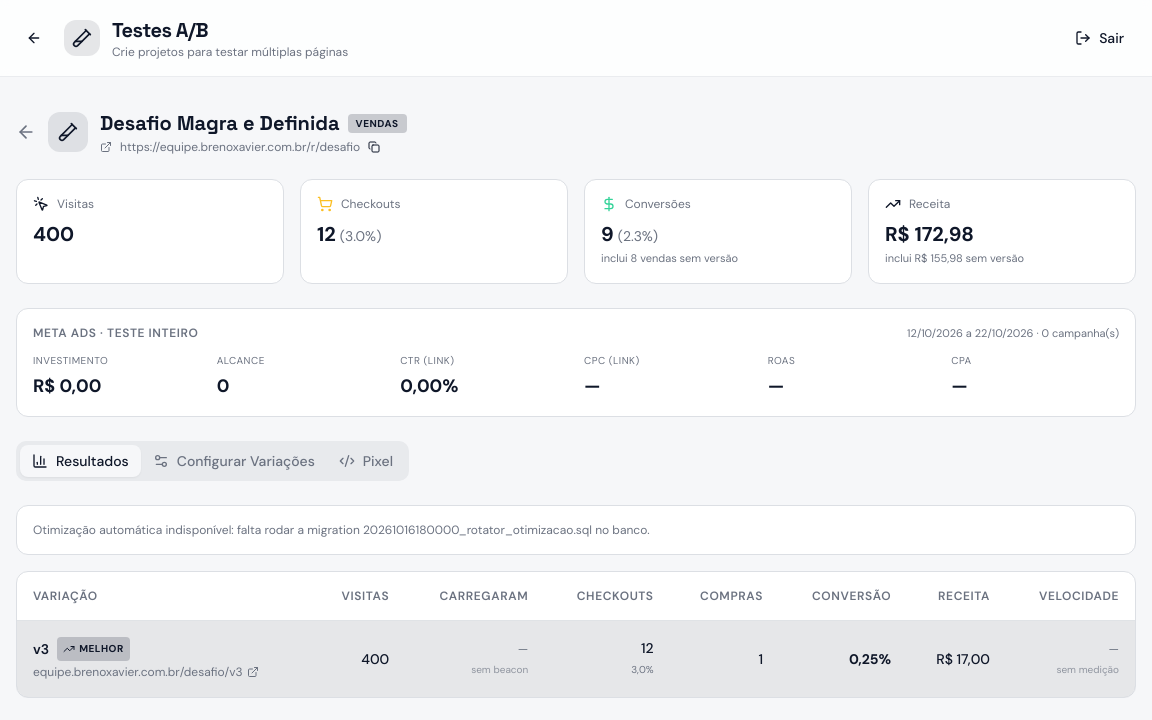
página do teste com vendas sem versão › aba Configurar lista as vendas sem versão e adiciona uma nova
Later steps or results of the test are not shown.
Expected: the heading "Desafio Magra e Definida" is shown, [100,109,340,137]
Radix Tabs troca de aba no mousedown
Press the mouse on the tab "Configurar Variações": {"x": 234, "y": 461} [141,445,327,477]
(page scrolled)
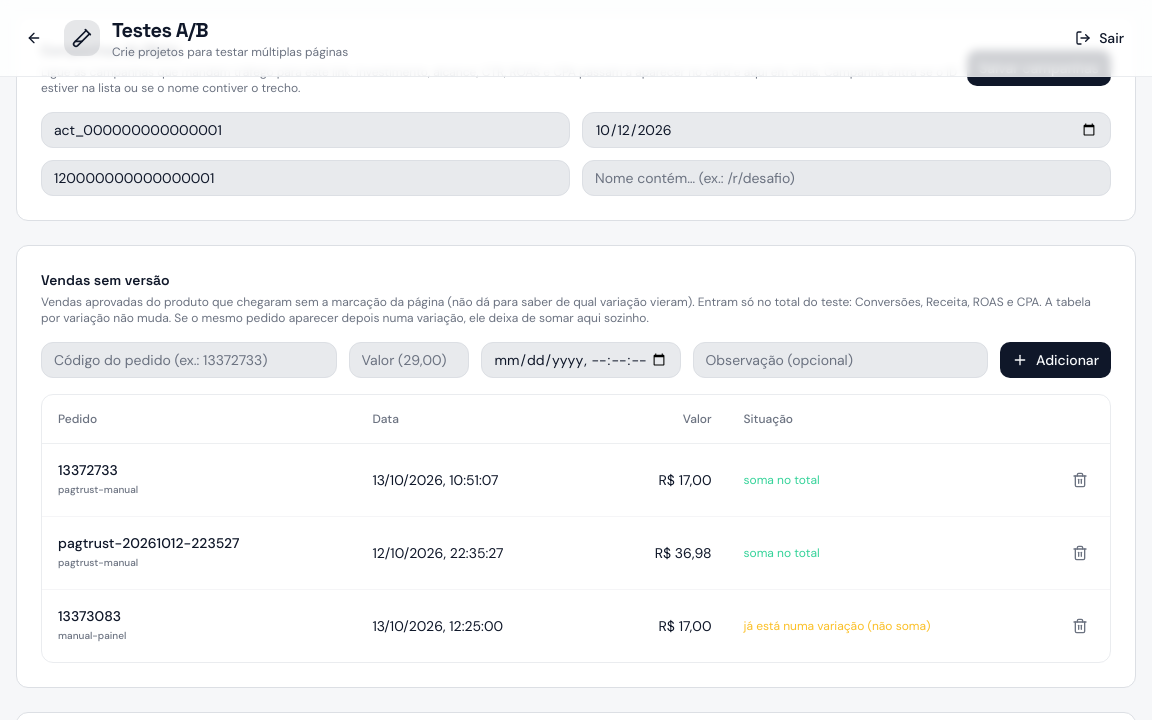
Result: the text "R$ 36,98" is shown at [597,516,728,589]
Result: the text "já está numa variação (não soma)" is shown at [744,618,930,634]
Result: the text "soma no total" is shown 2 times at [744,472,820,488]; [744,544,820,560]
